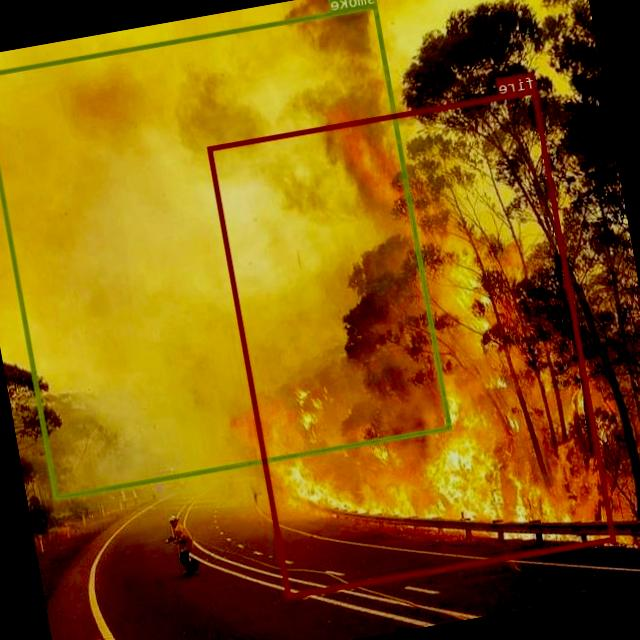fire: (208, 88, 616, 598)
smoke: (0, 2, 453, 499)
